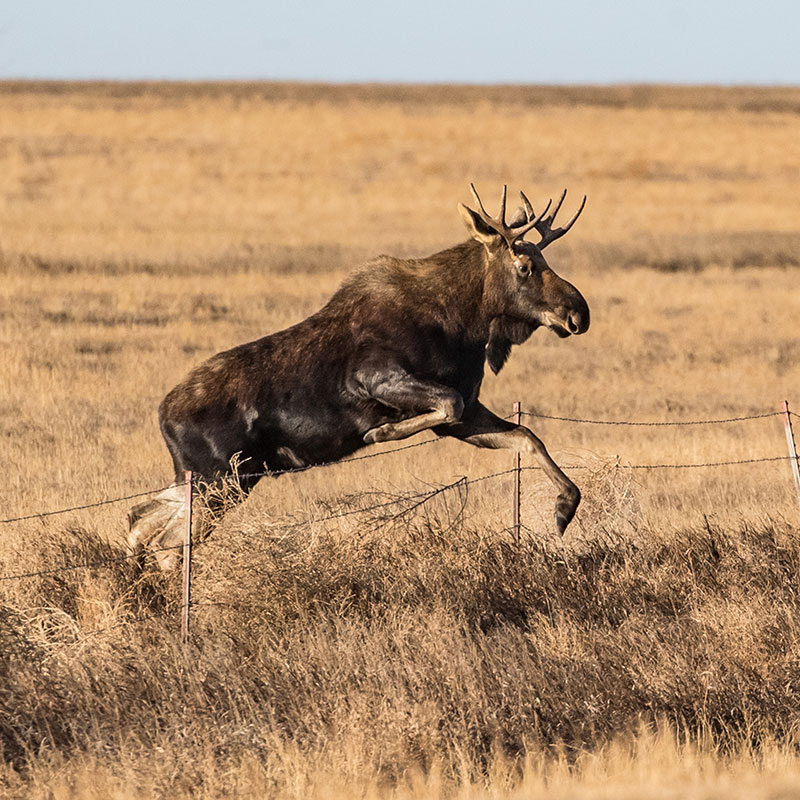moose: (136, 174, 601, 567)
